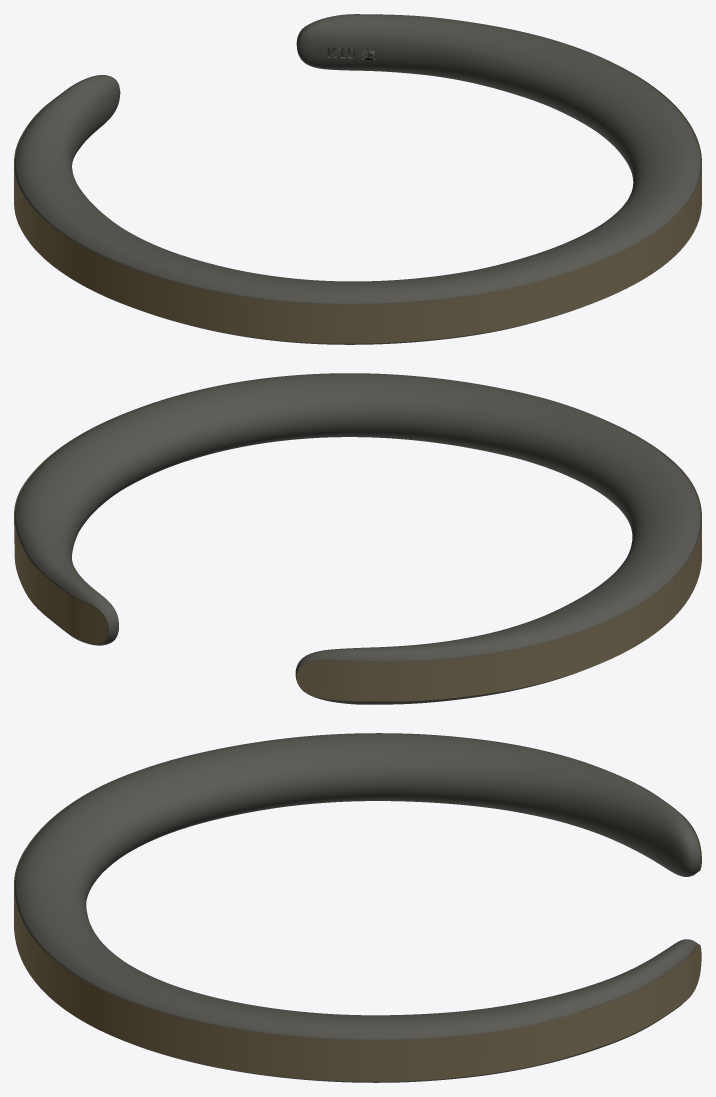
The model's file is ring-black.glb.
3 renders of one model, top to bottom at view 1: azimuth 30°, elevation 25°; view 2: azimuth 150°, elevation 25°; view 3: azimuth 270°, elevation 25°, orthographic. The views are drawn at different scales.
Visible parts, largest first — view 1: ring-body.002, ring-body.003; view 2: ring-body.002, ring-body.003; view 3: ring-body.002, ring-body.003.
Part boxes in pixels (bbox=[...]): ring-body.002: bbox=[14, 14, 701, 344]; ring-body.003: bbox=[14, 26, 701, 343]; ring-body.002: bbox=[15, 373, 701, 704]; ring-body.003: bbox=[14, 412, 701, 701]; ring-body.002: bbox=[14, 733, 700, 1082]; ring-body.003: bbox=[14, 776, 701, 1081].
Bounding box in the file's own units: 0.5126 × 0.0444 × 0.4867.
Materials: 2 (2 with a texture image).
